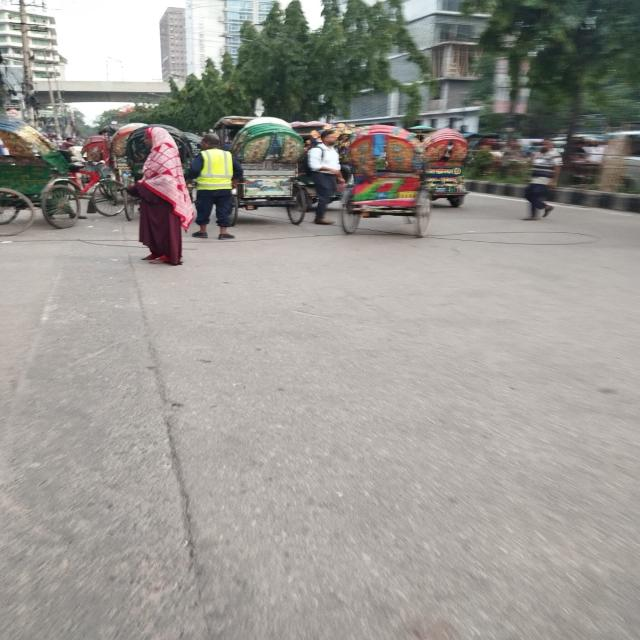person: (128, 126, 194, 266), (188, 134, 243, 240), (308, 130, 345, 226)
